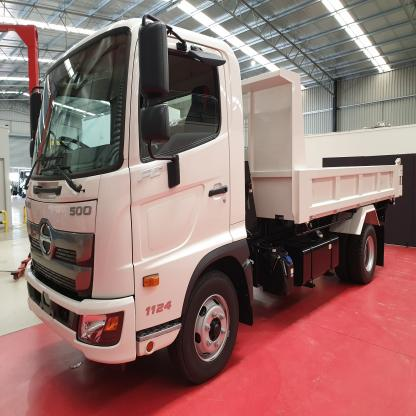dump_truck: (15, 17, 405, 393)
